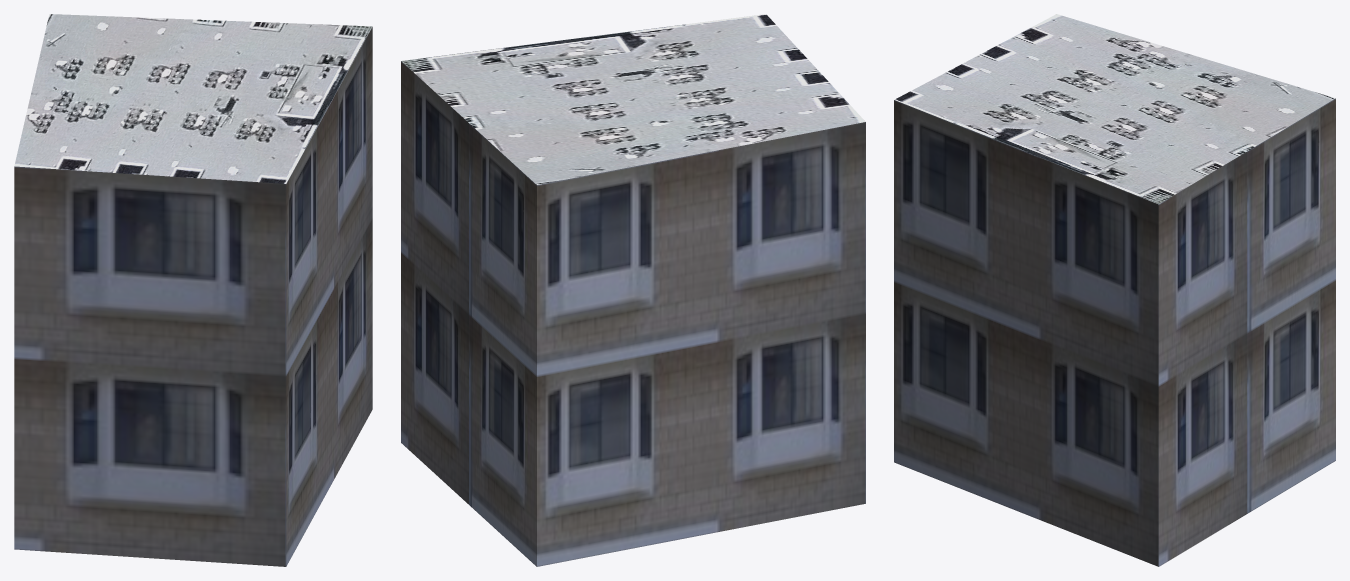
Rendered from ResTex__4951.fbx.
3 renders of one model, left to right at view 1: azimuth 30°, elevation 25°; view 2: azimuth 150°, elevation 25°; view 3: azimuth 270°, elevation 25°, orthographic. The views are drawn at different scales.
Visible parts, largest first — view 1: CityEngineMaterial_3_m, CityEngineMaterial_m; view 2: CityEngineMaterial_3_m, CityEngineMaterial_m; view 3: CityEngineMaterial_3_m, CityEngineMaterial_m.
Boxes of the visible parts, left/top/right/bottom form: CityEngineMaterial_3_m: left=14, top=27, right=372, bottom=566; CityEngineMaterial_m: left=14, top=14, right=372, bottom=183; CityEngineMaterial_3_m: left=401, top=61, right=865, bottom=566; CityEngineMaterial_m: left=401, top=14, right=865, bottom=184; CityEngineMaterial_3_m: left=894, top=98, right=1335, bottom=566; CityEngineMaterial_m: left=894, top=14, right=1335, bottom=204.
Size of the model in its own units: 6.76 by 6 by 6.63.
2 materials, 2 textured.
